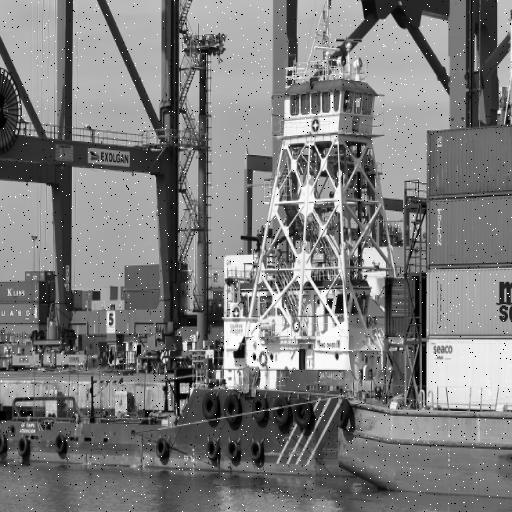tugboat: (1, 70, 432, 504)
